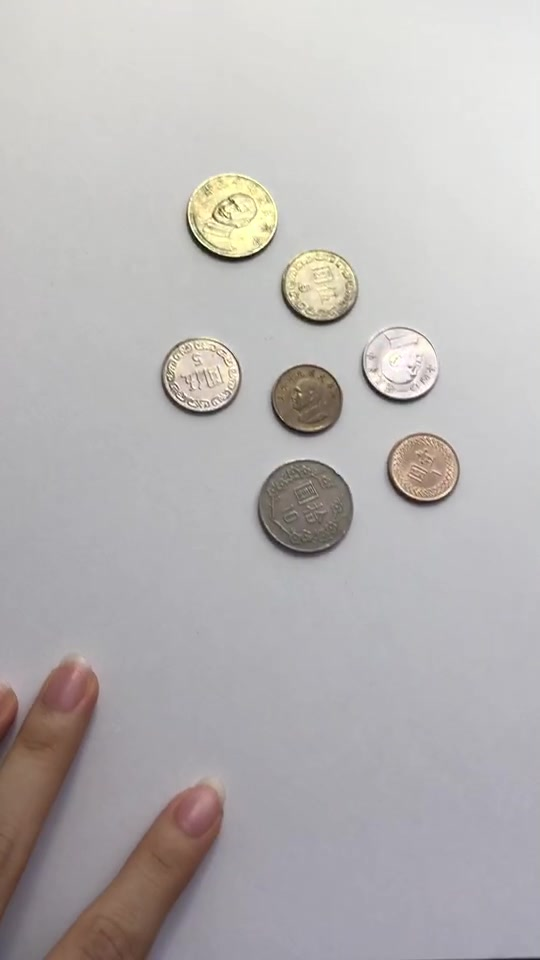1 dallar: (262, 353, 347, 439), (384, 429, 469, 515)
10 dallar: (250, 451, 357, 560), (180, 162, 279, 268)
5 dallar: (152, 333, 250, 421), (265, 241, 363, 329), (352, 323, 450, 411)
